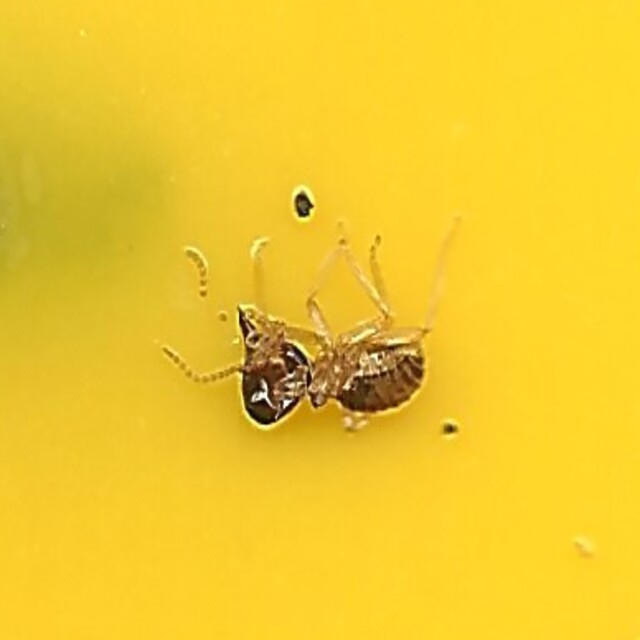Isoptera: (165, 203, 475, 437)
